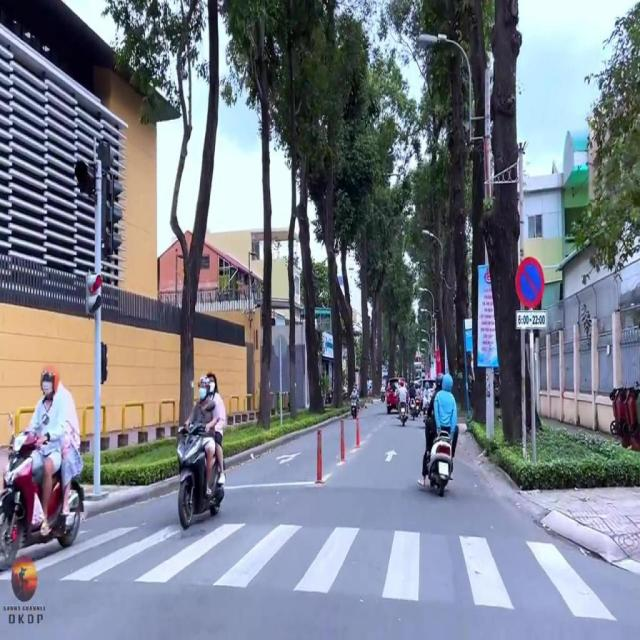cam_do_xe: (516, 256, 544, 309)
khac: (516, 310, 547, 330)
